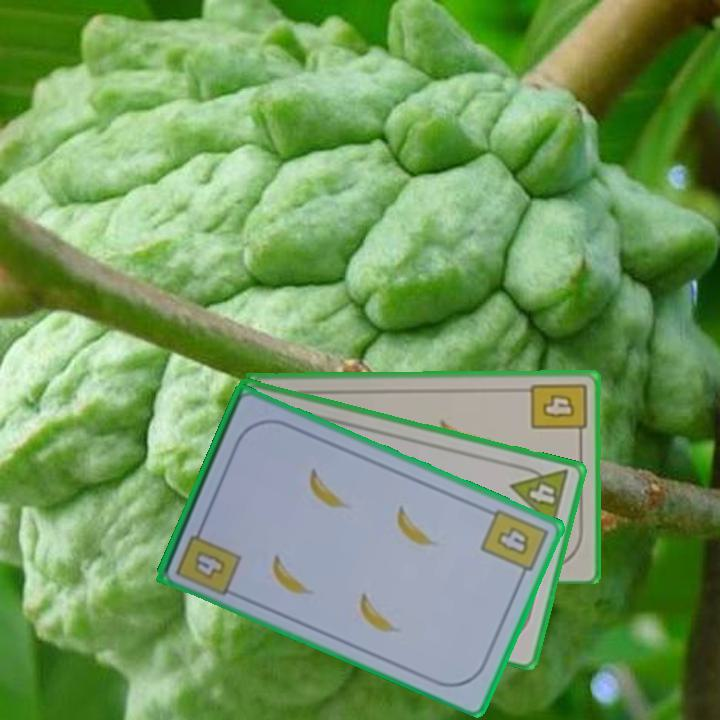4b: (477, 505, 551, 584), (172, 519, 244, 599), (527, 379, 589, 443)
4p: (507, 460, 572, 531)
